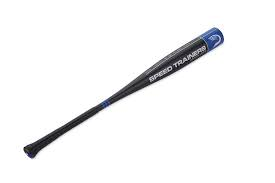baseball bat: (23, 27, 224, 159)
